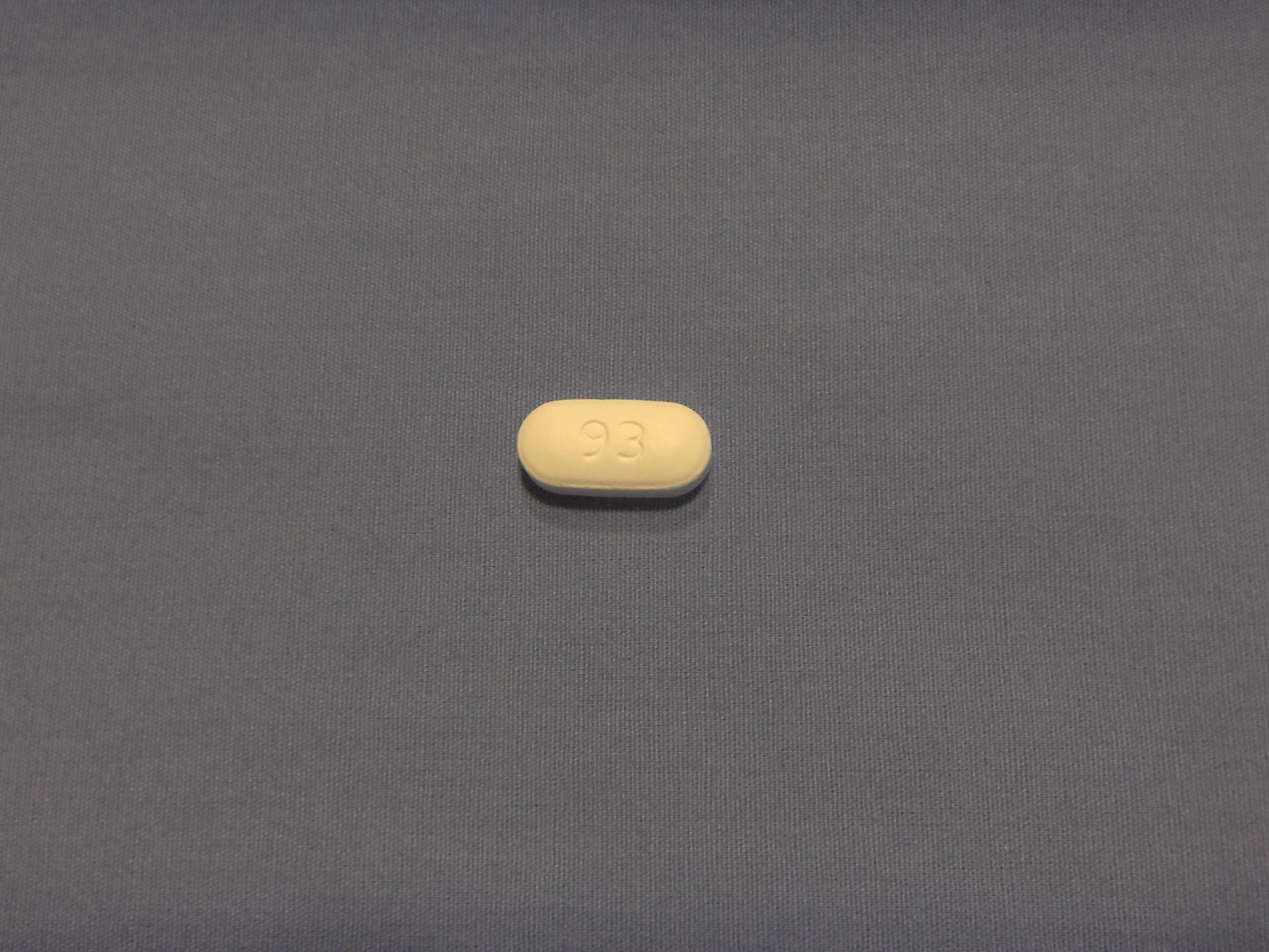Pill: (511, 389, 719, 506)
